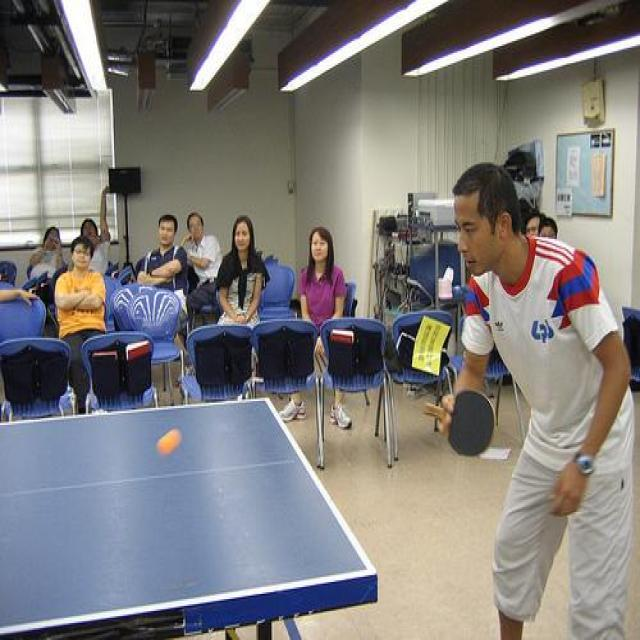ping-pong-ball: (156, 426, 182, 456)
